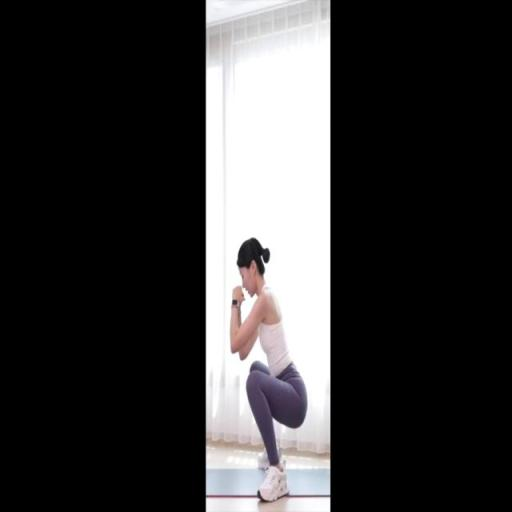Normal_BrenchPress: (229, 237, 309, 503)
